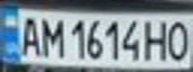1: (63, 16, 87, 60), (103, 17, 124, 61)
4: (121, 17, 145, 62)
6: (84, 17, 106, 61)
A: (15, 14, 42, 57)
H: (142, 16, 172, 62)
M: (36, 15, 63, 57)
O: (163, 17, 193, 62)
